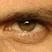eye: (19, 20, 36, 32)
